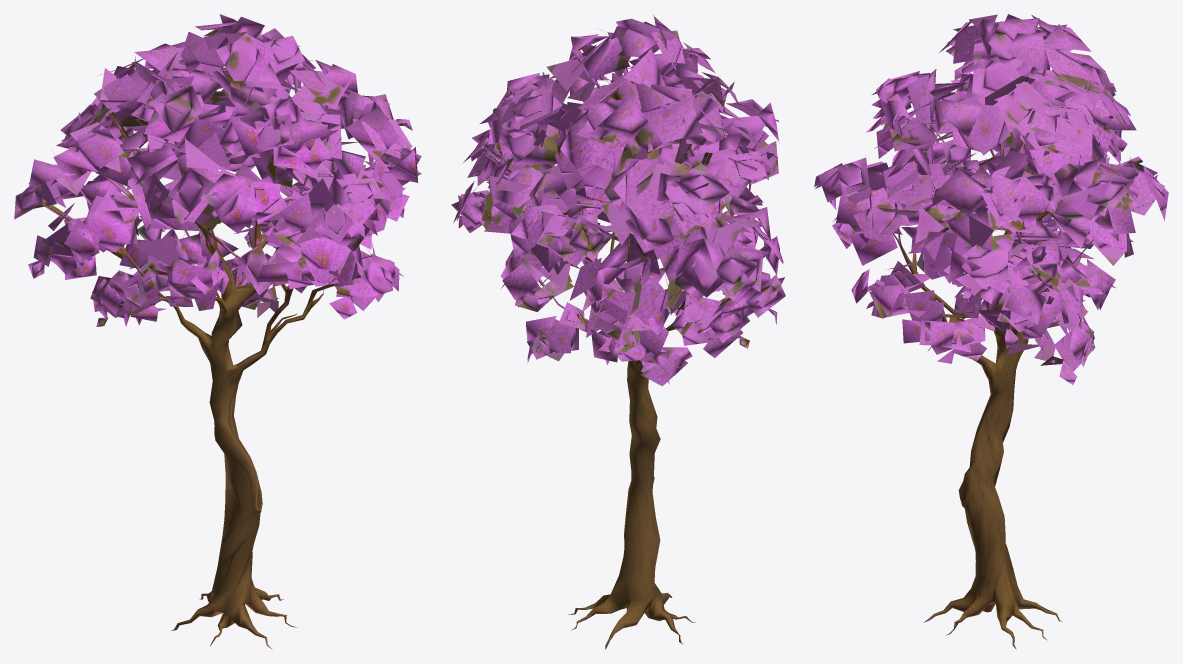
Rendered from tree-blossom.glb.
The picture shows the model from 3 angles, left to right: view 1: azimuth 30°, elevation 25°; view 2: azimuth 150°, elevation 25°; view 3: azimuth 270°, elevation 25°; orthographic projection.
Size of the model in its own units: 0.5728 by 0.9497 by 0.5034.
1 material, 1 textured.
